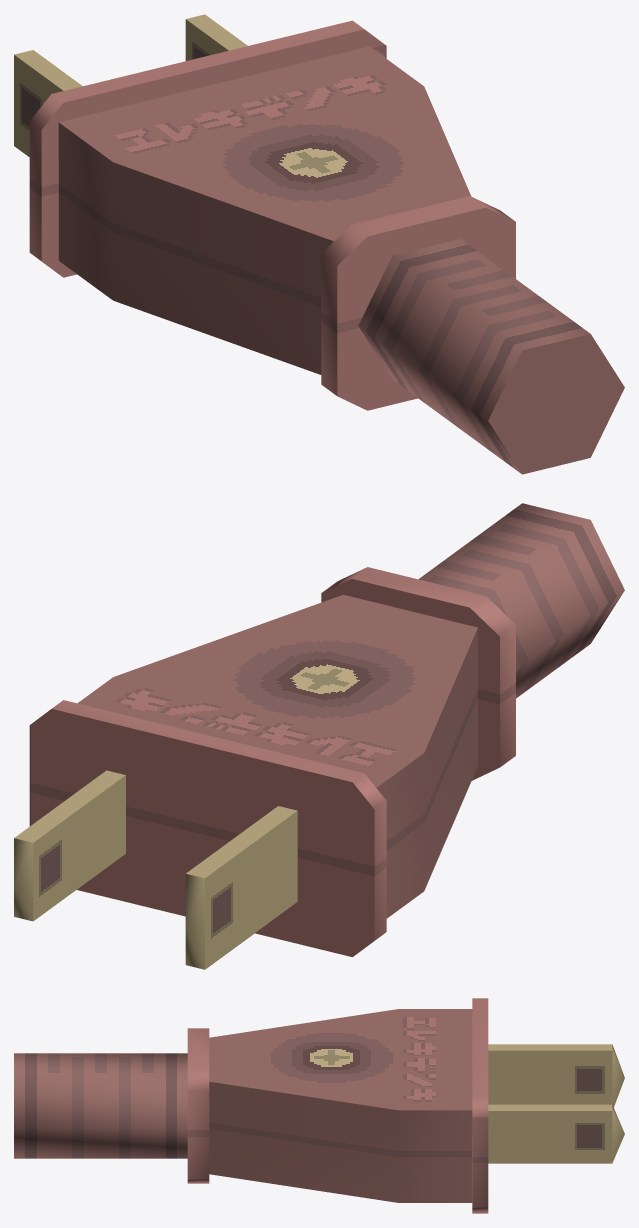
File: 053f_Kotatsu_Plug.glb
3 views of the same model, one above another, from view 1: azimuth 30°, elevation 25°; view 2: azimuth 150°, elevation 25°; view 3: azimuth 270°, elevation 25° (orthographic). The views are drawn at different scales.
Visible parts, largest first — view 1: part_0; view 2: part_0; view 3: part_0.
Boxes of the visible parts, bbox=[...] form: part_0: bbox=[14, 14, 624, 474]; part_0: bbox=[14, 503, 624, 969]; part_0: bbox=[14, 998, 624, 1213].
Size of the model in its own units: 0.0294 by 0.0143 by 0.0674.
Materials: 1 (1 with a texture image).
